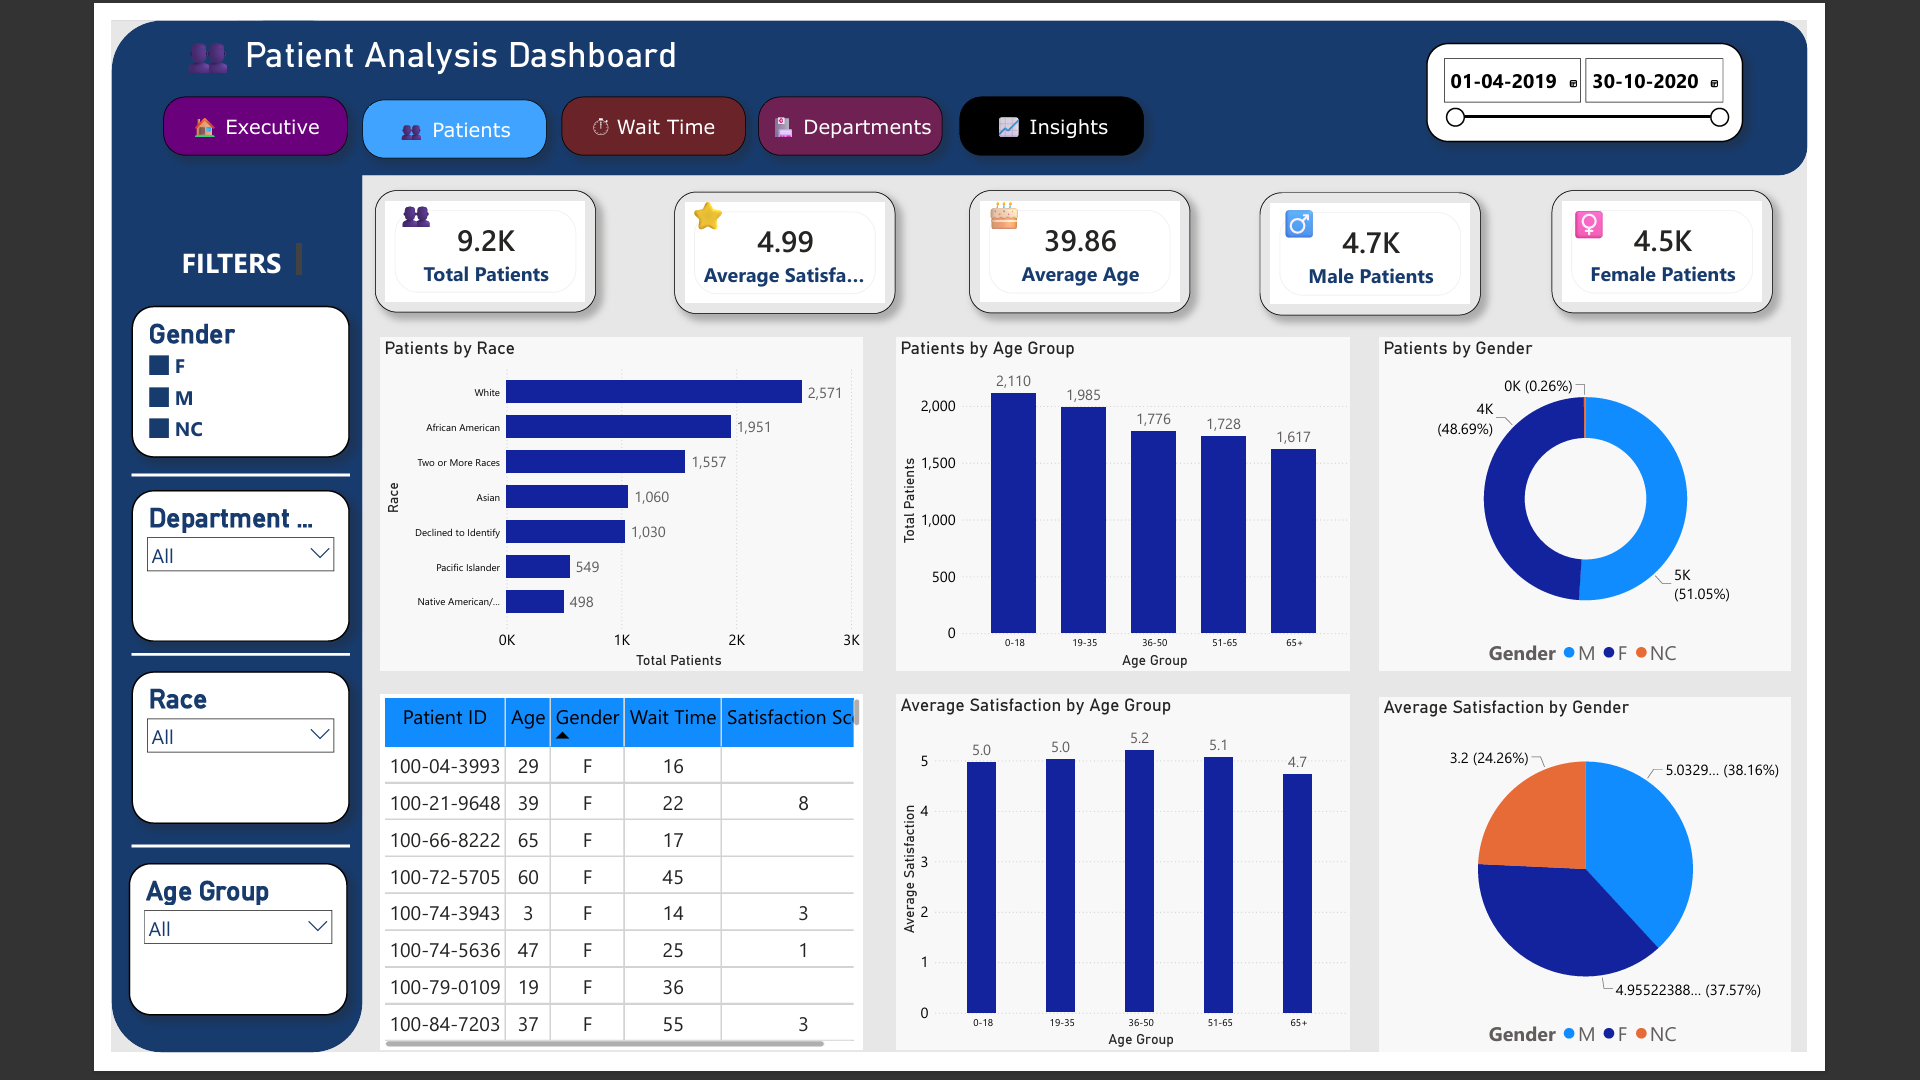

The page's visual inventory and layout, read from the dashboard file:
{"tool":"powerbi","page":{"name":"Patient Analysis","canvas":[2300,1400],"ordinal":1},"visuals":[{"type":"shape","box":[170,0,2130,210],"z":0},{"type":"pieChart","fields":{"Category":["Hospital ER.Gender"],"Y":["Hospital ER.Average Satisfaction"]},"box":[1720,917.5,557.5,482.5],"z":1000},{"type":"cardVisual","fields":{"Data":["Hospital ER.Total Patients"]},"box":[356.7,230,300,166.1],"z":2000},{"type":"shape","box":[0,0,340,1400],"z":3000},{"type":"textbox","box":[90,0,1153.3,113.3],"z":4000},{"type":"cardVisual","fields":{"Data":["Hospital ER.Average Satisfaction"]},"box":[763.3,231.7,300,166.7],"z":5000},{"type":"slicer","fields":{"Values":["Hospital ER.Gender"]},"box":[26.7,386.7,296.7,206.7],"z":6000},{"type":"cardVisual","fields":{"Data":["Hospital ER.Average Age"]},"box":[1163.3,230,300,166.7],"z":7000},{"type":"slicer","fields":{"Values":["Hospital ER.Department Referral"]},"box":[26.7,636.7,296.7,206.7],"z":8000},{"type":"slicer","fields":{"Values":["Hospital ER.Race"]},"box":[26.7,883.3,296.7,206.7],"z":9000},{"type":"slicer","fields":{"Values":["Hospital ER.Age Group"]},"box":[23.3,1143.3,296.7,206.7],"z":10000},{"type":"shape","box":[26.7,560,296.7,113.3],"z":11000},{"type":"shape","box":[26.7,1063.3,296.7,113.3],"z":12000},{"type":"shape","box":[26.7,803.3,296.7,113.3],"z":13000},{"type":"textbox","box":[90,296.7,173.3,56.7],"z":14000},{"type":"donutChart","title":"Patients by Gender","fields":{"Category":["Hospital ER.Gender"],"Y":["Hospital ER.Total Patients"]},"box":[1720,430,557.5,452.5],"z":15000},{"type":"textbox","box":[383.3,230,73.3,80],"z":16000},{"type":"textbox","box":[778.3,233.3,163.3,76.7],"z":17000},{"type":"clusteredBarChart","title":"Patients by Race","fields":{"Y":["Hospital ER.Total Patients"],"Category":["Hospital ER.Race"]},"box":[365,430,655,452.5],"z":18000},{"type":"textbox","box":[1180,231.7,163.3,86.7],"z":19000},{"type":"clusteredColumnChart","title":"Patients by Age Group","fields":{"Y":["Hospital ER.Total Patients"],"Category":["Hospital ER.Age Group"]},"box":[1065,430,615,452.5],"z":20000},{"type":"slicer","fields":{"Values":["Hospital ER.Date"]},"box":[1782.5,30,430,135],"z":21000},{"type":"actionButton","box":[340,106.7,250,80],"z":22000},{"type":"actionButton","box":[610,103.3,250,80],"z":23000},{"type":"actionButton","box":[876.7,103.3,250,80],"z":24000},{"type":"actionButton","box":[1150,103.3,250,80],"z":25000},{"type":"actionButton","box":[70,102.5,250,80],"z":26000},{"type":"cardVisual","fields":{"Data":["Hospital ER.Male Patients"]},"box":[1556.7,233.3,300,166.7],"z":27000},{"type":"cardVisual","fields":{"Data":["Hospital ER.Female Patients"]},"box":[1953.3,230,300,166.7],"z":28000},{"type":"textbox","box":[1580,244,202,82],"z":29000},{"type":"textbox","box":[1972.5,245,220,82.5],"z":30000},{"type":"tableEx","fields":{"Values":["Hospital ER.Patient ID","Hospital ER.Age","Hospital ER.Gender","Hospital ER.Wait Time","Hospital ER.Satisfaction Score"]},"box":[365,915,655,482.5],"z":31000},{"type":"clusteredColumnChart","fields":{"Y":["Hospital ER.Average Satisfaction"],"Category":["Hospital ER.Age Group"]},"box":[1065,915,615,482.5],"z":32000}]}

Visuals, with their boxes on the page's 2300x1400 design canvas (x1, y1, x2, y2). These are canvas units, not pixel positions in the 1920x1080 screenshot, which may show the page scaled, cropped or inside an application window:
shape: (x1=170, y1=0, x2=2300, y2=210)
pieChart - Hospital ER.Gender x Hospital ER.Average Satisfaction: (x1=1720, y1=918, x2=2278, y2=1400)
cardVisual - Hospital ER.Total Patients: (x1=357, y1=230, x2=657, y2=396)
shape: (x1=0, y1=0, x2=340, y2=1400)
textbox: (x1=90, y1=0, x2=1243, y2=113)
cardVisual - Hospital ER.Average Satisfaction: (x1=763, y1=232, x2=1063, y2=398)
slicer - Hospital ER.Gender: (x1=27, y1=387, x2=323, y2=593)
cardVisual - Hospital ER.Average Age: (x1=1163, y1=230, x2=1463, y2=397)
slicer - Hospital ER.Department Referral: (x1=27, y1=637, x2=323, y2=843)
slicer - Hospital ER.Race: (x1=27, y1=883, x2=323, y2=1090)
slicer - Hospital ER.Age Group: (x1=23, y1=1143, x2=320, y2=1350)
shape: (x1=27, y1=560, x2=323, y2=673)
shape: (x1=27, y1=1063, x2=323, y2=1177)
shape: (x1=27, y1=803, x2=323, y2=917)
textbox: (x1=90, y1=297, x2=263, y2=353)
"Patients by Gender" donutChart: (x1=1720, y1=430, x2=2278, y2=882)
textbox: (x1=383, y1=230, x2=457, y2=310)
textbox: (x1=778, y1=233, x2=942, y2=310)
"Patients by Race" clusteredBarChart: (x1=365, y1=430, x2=1020, y2=882)
textbox: (x1=1180, y1=232, x2=1343, y2=318)
"Patients by Age Group" clusteredColumnChart: (x1=1065, y1=430, x2=1680, y2=882)
slicer - Hospital ER.Date: (x1=1782, y1=30, x2=2212, y2=165)
actionButton: (x1=340, y1=107, x2=590, y2=187)
actionButton: (x1=610, y1=103, x2=860, y2=183)
actionButton: (x1=877, y1=103, x2=1127, y2=183)
actionButton: (x1=1150, y1=103, x2=1400, y2=183)
actionButton: (x1=70, y1=102, x2=320, y2=182)
cardVisual - Hospital ER.Male Patients: (x1=1557, y1=233, x2=1857, y2=400)
cardVisual - Hospital ER.Female Patients: (x1=1953, y1=230, x2=2253, y2=397)
textbox: (x1=1580, y1=244, x2=1782, y2=326)
textbox: (x1=1972, y1=245, x2=2192, y2=328)
tableEx - Hospital ER.Patient ID x Hospital ER.Age: (x1=365, y1=915, x2=1020, y2=1398)
clusteredColumnChart - Hospital ER.Average Satisfaction x Hospital ER.Age Group: (x1=1065, y1=915, x2=1680, y2=1398)
